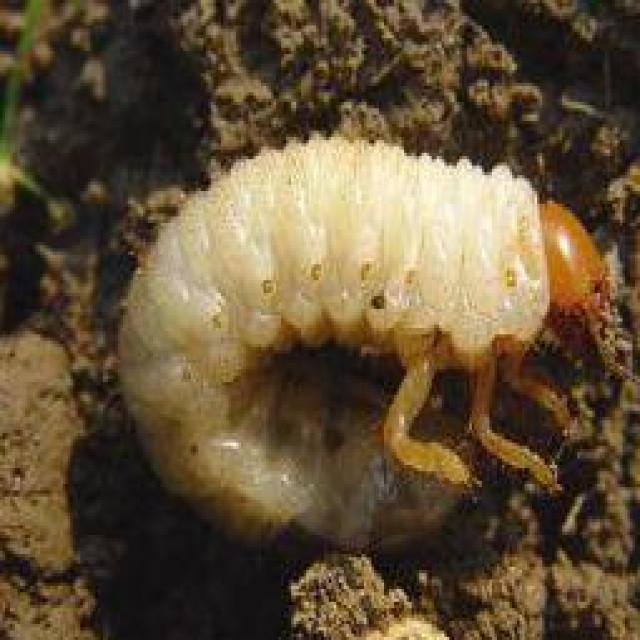Grub-Adult-: (107, 115, 607, 576)
